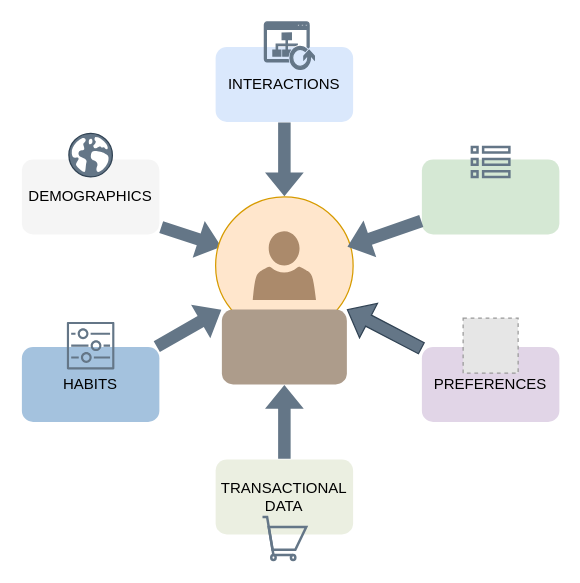
The diagram is 580 pixels wide and 583 high, and some of its shapes have lost their labels. Grey dashed boxes stand in for pictures. Here are the shapes that lost their labels. From the top down, the box of each, then its label:
(421, 159, 559, 234): BEHAVIORS
(221, 309, 346, 384): 360° CUSTOMER PROFILE
